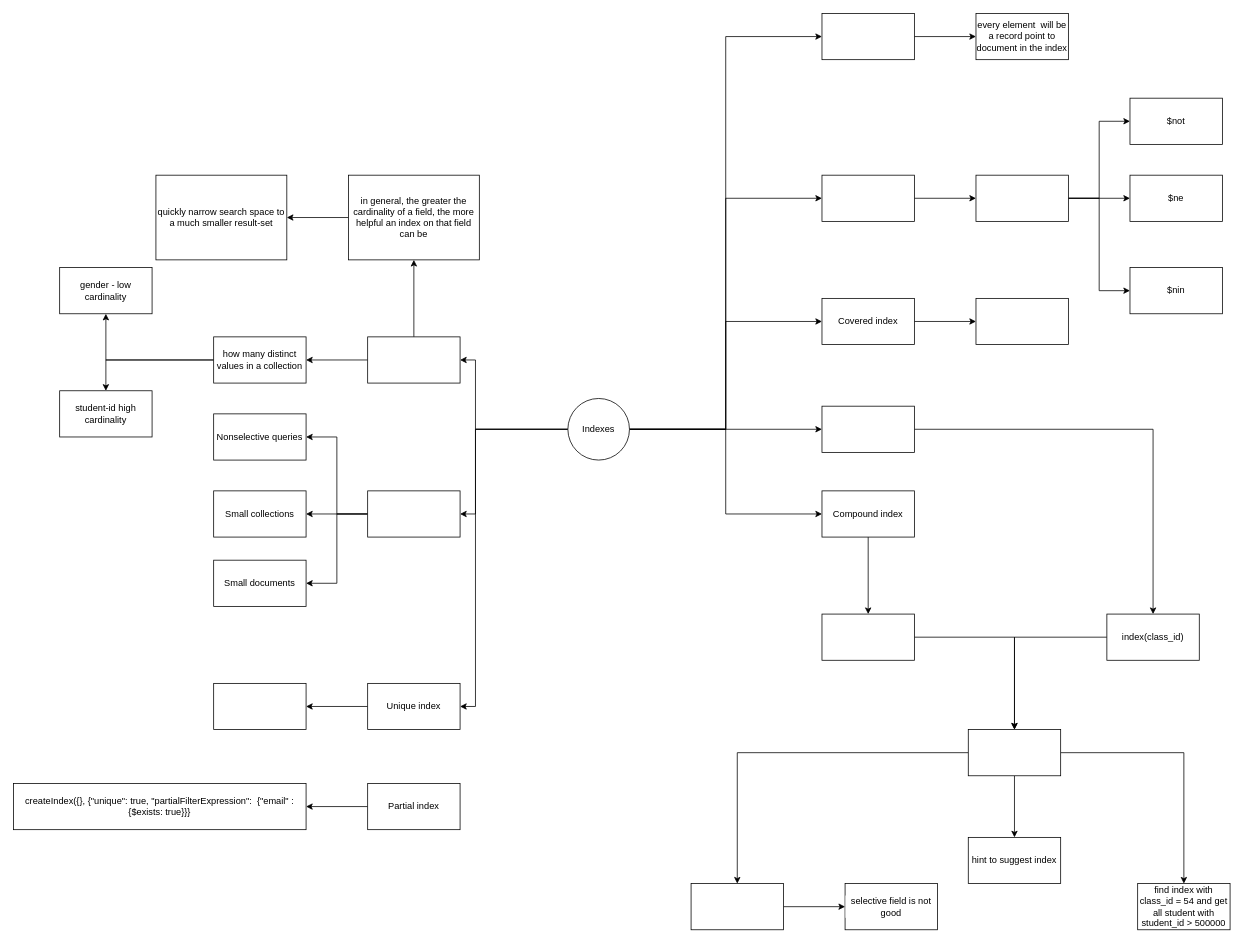
Some shapes in this 1244 by 943 pixel diagram are drawn without their labels. Each missing label, with the centre of its shape:
$operator: (x=867, y=197)
Array index: (x=867, y=36)
Cardinality: (x=413, y=359)
createIndex({}, {"unique": true}: (x=259, y=706)
find student_id > 500000 and class_id = 54: (x=1014, y=752)
index (student_id, class_id): (x=867, y=636)
inefficient: (x=1021, y=197)
it have to examine every student_id index which have id > 500000: (x=736, y=906)
looking for the fields that are all included in the index: (x=1021, y=321)
Single index: (x=867, y=428)
When to not index: (x=413, y=513)
